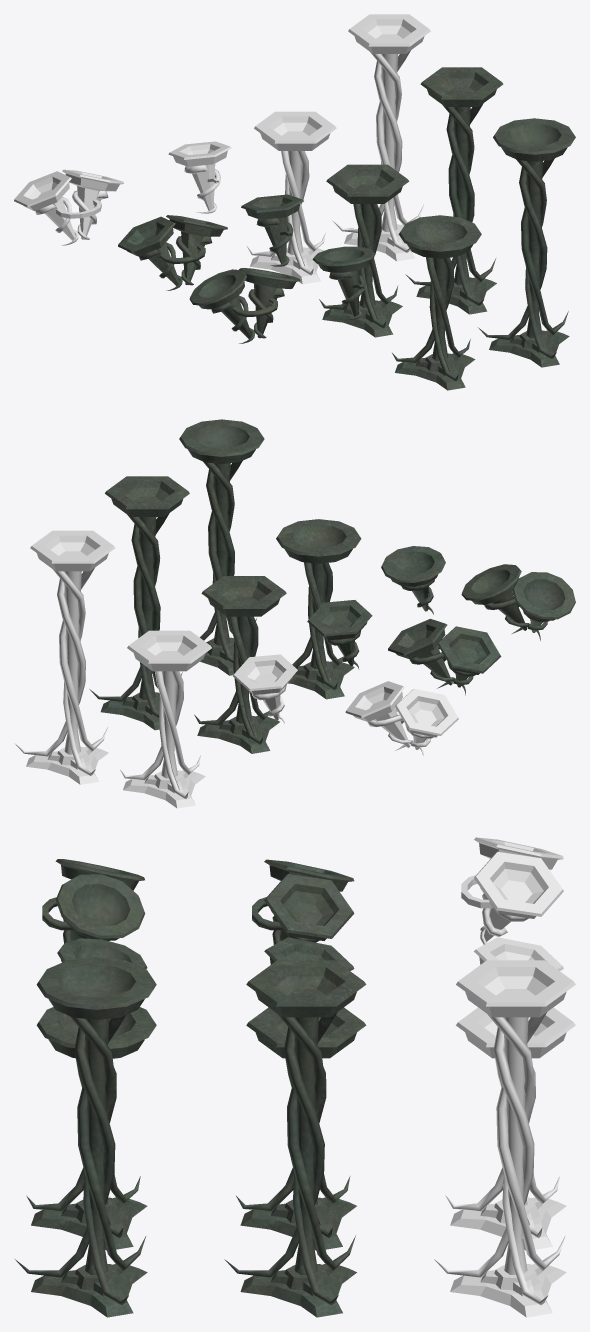
Rendered from torch-pack-2.fbx.
The picture shows the model from 3 angles, top to bottom: view 1: azimuth 30°, elevation 25°; view 2: azimuth 150°, elevation 25°; view 3: azimuth 270°, elevation 25°; orthographic projection. The views are drawn at different scales.
Visible parts, largest first — view 1: Circle.010, Circle.008, Circle.012, Circle.007, Cube.003, Cube.002, Circle.002, Circle.001, Circle.015, Circle.009, Circle.005, Circle.004 (+10 smaller); view 2: Circle.008, Circle.010, Circle.007, Circle.012, Cube.003, Cube.002, Circle.002, Circle.001, Circle.015, Circle.009, Circle.005, Circle.004 (+11 smaller); view 3: Circle.010, Circle.008, Circle.012, Cube.003, Circle.007, Cube.002, Circle.001, Circle.006, Circle, BezierCurve, BezierCurve.003, Circle.002 (+8 smaller).
Part boxes in pixels (bbox=[...]): Circle.010: bbox=[478, 118, 575, 367]; Circle.008: bbox=[405, 67, 503, 314]; Circle.012: bbox=[392, 215, 481, 390]; Circle.007: bbox=[319, 164, 409, 337]; Cube.003: bbox=[189, 268, 300, 343]; Cube.002: bbox=[118, 215, 227, 290]; Circle.002: bbox=[254, 111, 336, 150]; Circle.001: bbox=[348, 14, 430, 53]; Circle.015: bbox=[312, 246, 375, 319]; Circle.009: bbox=[241, 194, 303, 266]; Circle.005: bbox=[14, 171, 75, 240]; Circle.004: bbox=[168, 141, 231, 210]; Circle.008: bbox=[89, 476, 189, 730]; Circle.010: bbox=[179, 419, 264, 675]; Circle.007: bbox=[194, 576, 286, 753]; Circle.012: bbox=[276, 519, 361, 699]; Cube.003: bbox=[461, 564, 575, 640]; Cube.002: bbox=[388, 618, 501, 695]; Circle.002: bbox=[127, 630, 211, 671]; Circle.001: bbox=[30, 530, 115, 571]; Circle.015: bbox=[381, 546, 445, 614]; Circle.009: bbox=[307, 600, 372, 669]; Circle.005: bbox=[395, 689, 458, 749]; Circle.004: bbox=[233, 654, 297, 720]; Circle.010: bbox=[15, 957, 156, 1317]; Circle.008: bbox=[224, 960, 366, 1317]; Circle.012: bbox=[26, 1007, 156, 1250]; Cube.003: bbox=[42, 859, 145, 962]; Circle.007: bbox=[236, 1007, 366, 1250]; Cube.002: bbox=[252, 859, 354, 944]; Circle.001: bbox=[456, 960, 575, 1017]; Circle.006: bbox=[474, 852, 563, 941]; Circle: bbox=[450, 1264, 566, 1317]; BezierCurve: bbox=[504, 1017, 528, 1274]; BezierCurve.003: bbox=[434, 1027, 534, 1277]; Circle.002: bbox=[456, 1007, 575, 1058].
Size of the model in its own units: 1321 by 650 by 1073.
